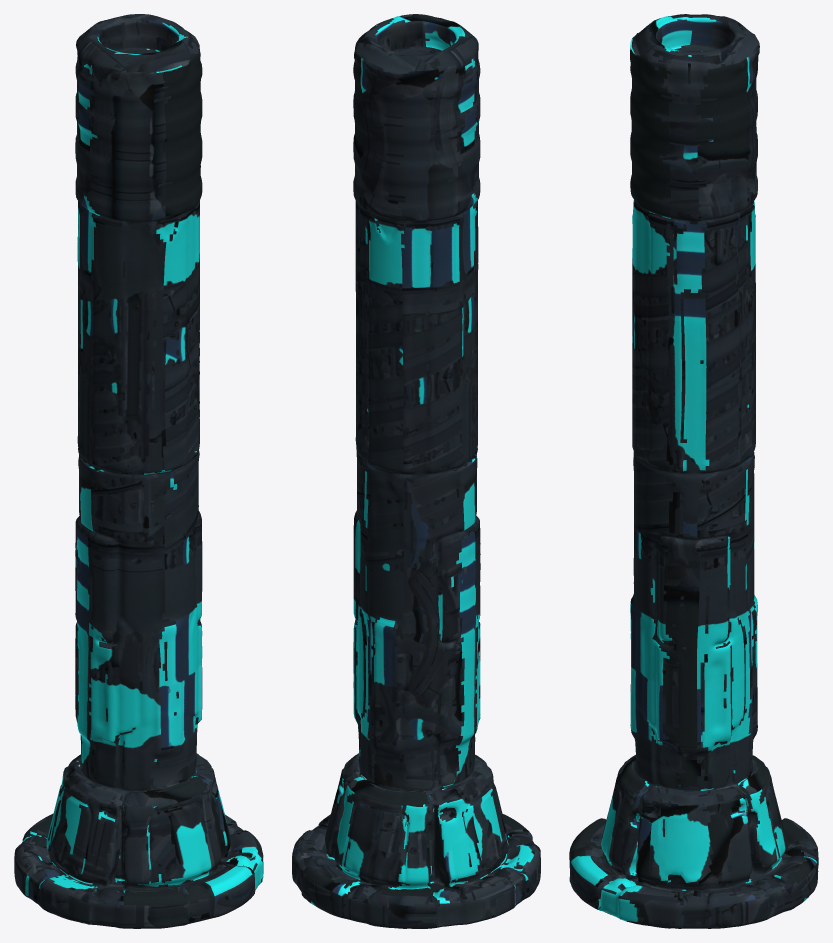
Rendered from tripo_convert_04d509fb-bbf4-4438-be29-6e443230f5ec.fbx.
3 renders of one model, left to right at view 1: azimuth 30°, elevation 25°; view 2: azimuth 150°, elevation 25°; view 3: azimuth 270°, elevation 25°, orthographic.
Parts seen in each view (by area): view 1: tripo_node_04d509fb; view 2: tripo_node_04d509fb; view 3: tripo_node_04d509fb.
Part boxes in pixels (<box>): tripo_node_04d509fb: <box>14,14,263,928</box>; tripo_node_04d509fb: <box>292,14,540,928</box>; tripo_node_04d509fb: <box>569,14,818,928</box>.
Size of the model in its own units: 0.2594 by 0.9828 by 0.2623.
